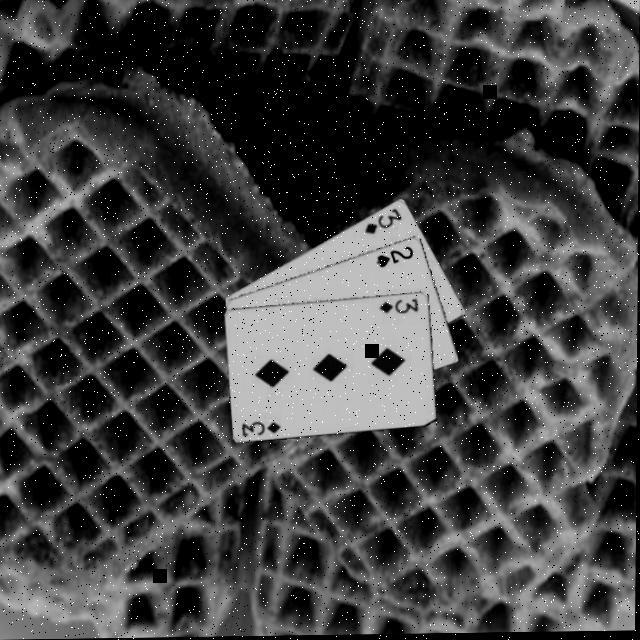2S: (375, 246, 419, 274)
3D: (364, 208, 406, 240), (378, 298, 422, 320), (242, 421, 286, 442)
